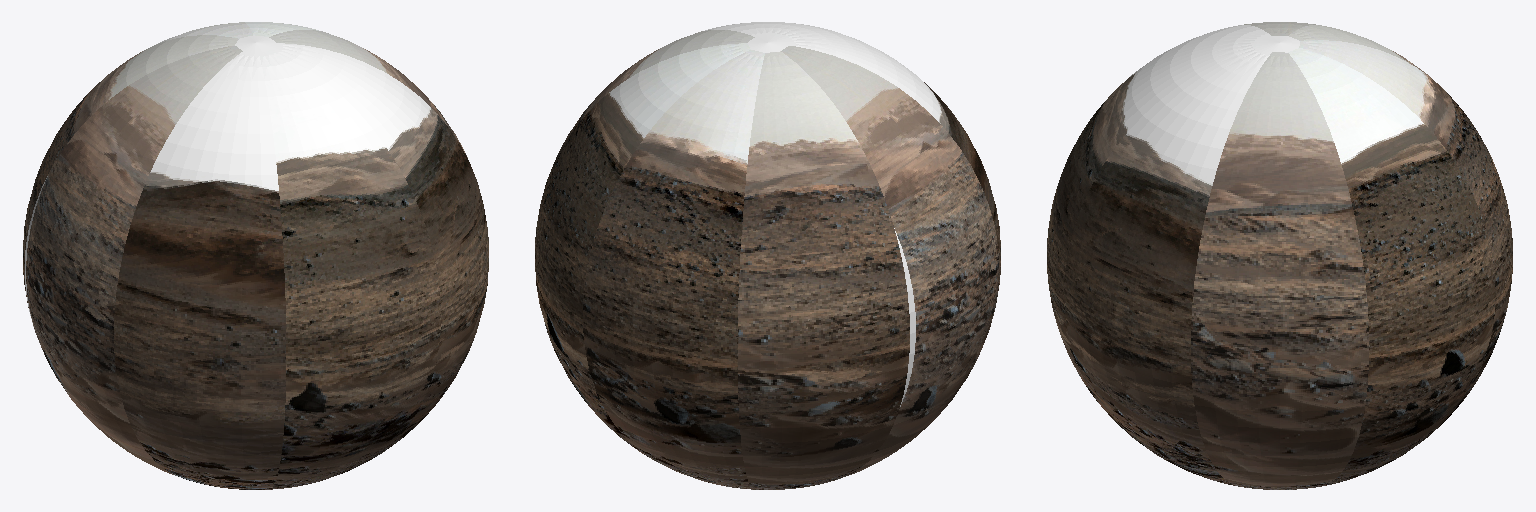
3 views of the same model, side by side, from view 1: azimuth 30°, elevation 25°; view 2: azimuth 150°, elevation 25°; view 3: azimuth 270°, elevation 25° (orthographic).
Visible parts, largest first — view 1: Sphere; view 2: Sphere; view 3: Sphere.
Boxes of the visible parts, <box> form: Sphere: <box>23,22,488,489</box>; Sphere: <box>535,22,1000,489</box>; Sphere: <box>1047,22,1512,489</box>.
Bounding box in the file's own units: 6.73 × 6.79 × 6.73.
1 materials, 1 textured.